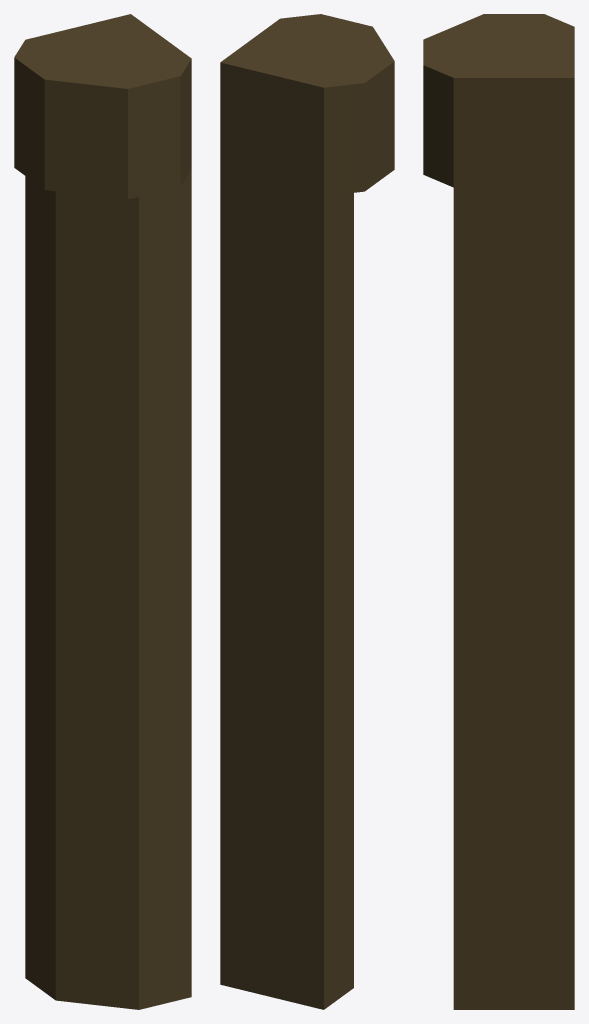
Rendered from fantasy_column_2.fbx.
The picture shows the model from 3 angles, left to right: view 1: azimuth 30°, elevation 25°; view 2: azimuth 150°, elevation 25°; view 3: azimuth 270°, elevation 25°; orthographic projection.
Parts seen in each view (by area): view 1: Cube.023; view 2: Cube.023; view 3: Cube.023.
Part boxes in pixels (left/top/right/bottom): Cube.023: left=14, top=14, right=191, bottom=1009; Cube.023: left=220, top=14, right=394, bottom=1009; Cube.023: left=423, top=14, right=574, bottom=1009.
Bounding box in the file's own units: 50 × 340 × 50.
